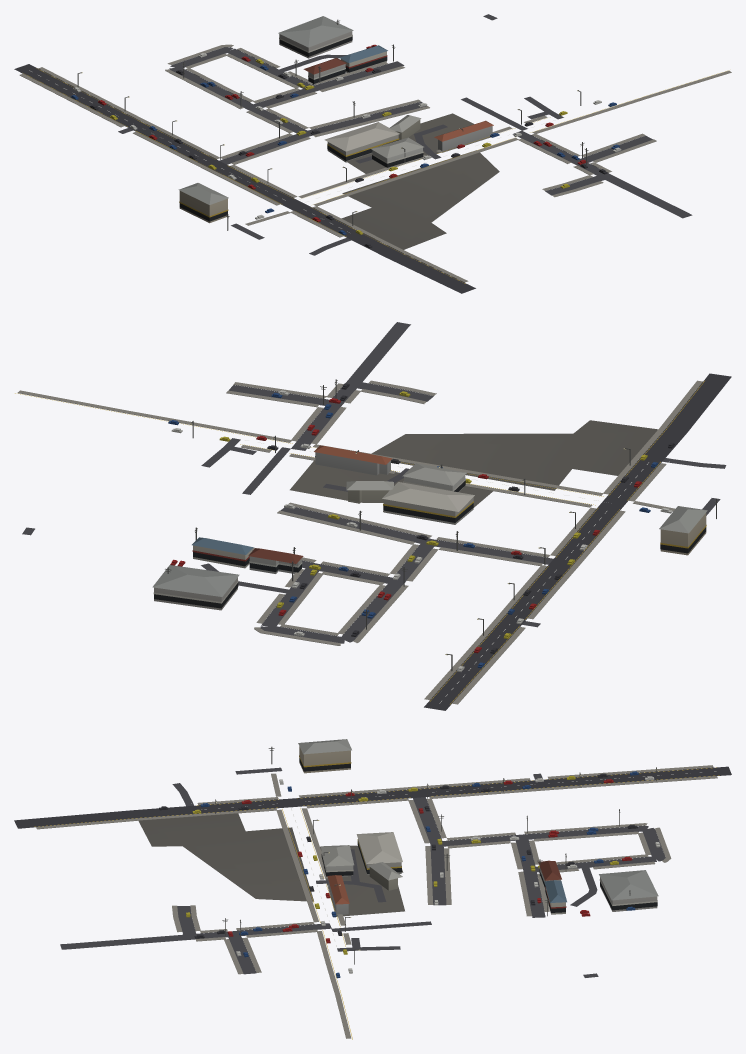
The picture shows the model from 3 angles, top to bottom: view 1: azimuth 30°, elevation 25°; view 2: azimuth 150°, elevation 25°; view 3: azimuth 270°, elevation 25°; orthographic projection. The views are drawn at different scales.
Parts seen in each view (by area): view 1: Sidewalks__r-18c-11-col, Landuse__r-18c-11, Roads_Minor__r-18c-11, Buildings__r-18c-11-col, Roads_Major__r-18c-11, Props_Solid__r-18c-11-col, Windows__r-18c-11, Markings__r-18c-11; view 2: Sidewalks__r-18c-11-col, Landuse__r-18c-11, Buildings__r-18c-11-col, Roads_Minor__r-18c-11, Roads_Major__r-18c-11, Props_Solid__r-18c-11-col, Windows__r-18c-11, Markings__r-18c-11; view 3: Sidewalks__r-18c-11-col, Landuse__r-18c-11, Roads_Minor__r-18c-11, Buildings__r-18c-11-col, Roads_Major__r-18c-11, Props_Solid__r-18c-11-col, Windows__r-18c-11, Markings__r-18c-11.
Part boxes in pixels (x1,y1,x2,y2): Sidewalks__r-18c-11-col: (19,44,731,282); Landuse__r-18c-11: (341,113,499,249); Roads_Minor__r-18c-11: (118,14,692,255); Buildings__r-18c-11-col: (178,16,493,223); Roads_Major__r-18c-11: (14,64,475,293); Props_Solid__r-18c-11-col: (71,19,621,248); Windows__r-18c-11: (179,35,423,221); Markings__r-18c-11: (23,68,729,283); Sidewalks__r-18c-11-col: (17,380,702,704); Landuse__r-18c-11: (290,420,657,523); Buildings__r-18c-11-col: (152,445,707,610); Roads_Minor__r-18c-11: (22,322,726,643); Roads_Major__r-18c-11: (424,373,731,710); Props_Solid__r-18c-11-col: (167,379,716,671); Windows__r-18c-11: (153,478,706,608); Markings__r-18c-11: (15,381,704,704); Sidewalks__r-18c-11-col: (36,765,717,1038); Landuse__r-18c-11: (138,813,404,916); Roads_Minor__r-18c-11: (60,767,665,977); Buildings__r-18c-11-col: (298,739,658,914); Roads_Major__r-18c-11: (14,766,731,828); Props_Solid__r-18c-11-col: (159,746,660,978); Windows__r-18c-11: (299,755,657,912); Markings__r-18c-11: (34,767,719,1039).
Bounding box in the file's own units: 329 × 13 × 353.
